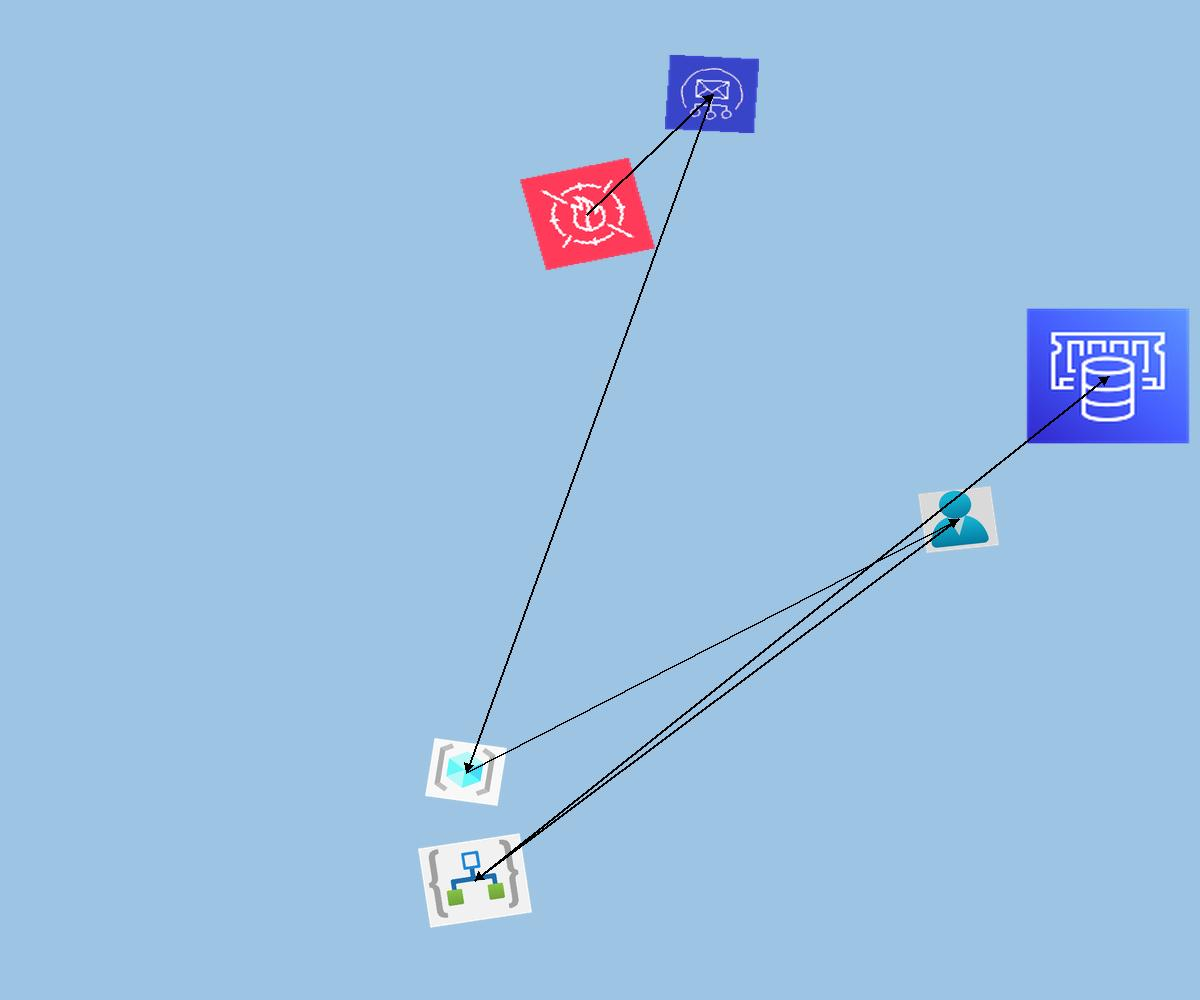AWS-ElastiCache: (1025, 307, 1191, 445)
AWS-Simple-Email-Service: (664, 54, 760, 134)
AWS-WAF: (519, 157, 656, 271)
Azure_integration-204-Logic-Apps: (418, 833, 532, 928)
Azure_resource_group: (425, 738, 507, 806)
Azure_users: (918, 486, 999, 553)
